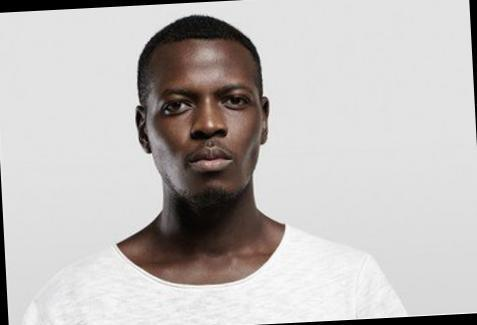Sober: (147, 39, 265, 189)
